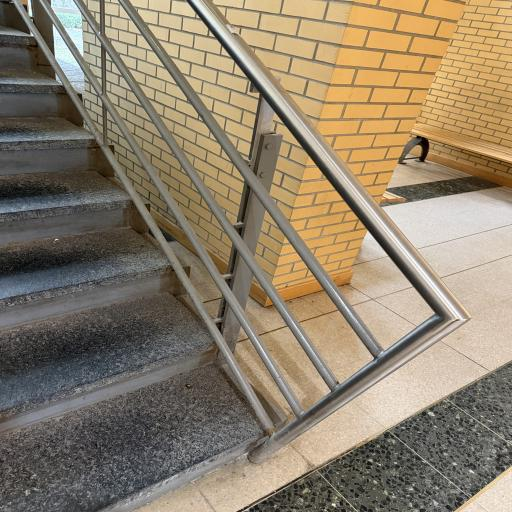Stairs: (0, 0, 285, 512), (0, 365, 263, 512), (0, 292, 214, 432), (0, 228, 173, 328), (0, 171, 147, 243), (0, 93, 113, 176), (0, 69, 83, 126), (0, 117, 99, 156), (0, 69, 67, 113), (0, 25, 36, 46)
